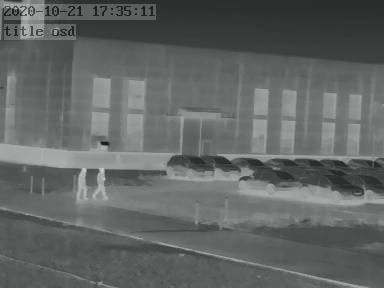person: (92, 167, 108, 201), (75, 167, 89, 202)
vehicle: (305, 173, 357, 200), (240, 169, 302, 190), (164, 153, 212, 179), (204, 153, 242, 177), (350, 173, 383, 200), (232, 154, 269, 171), (262, 155, 295, 170), (347, 156, 379, 170), (317, 156, 347, 170), (295, 156, 324, 169)
